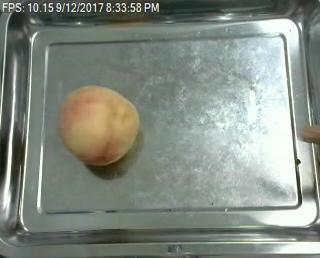Peach: (58, 84, 139, 167)
